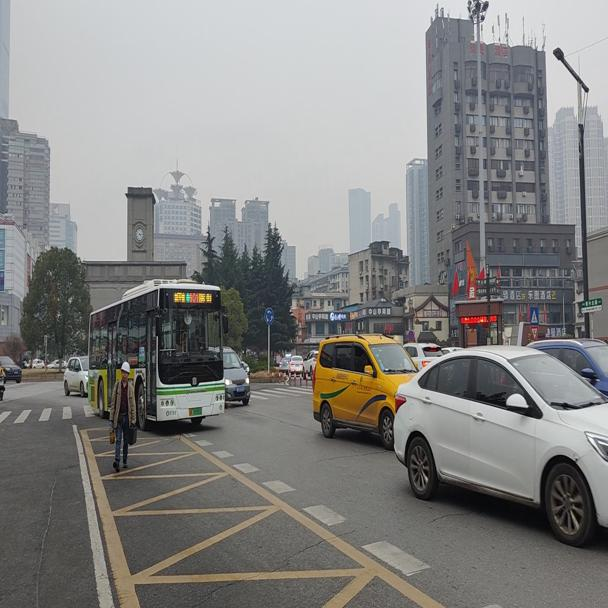bus: (86, 275, 228, 430)
screen: (189, 292, 197, 301)
